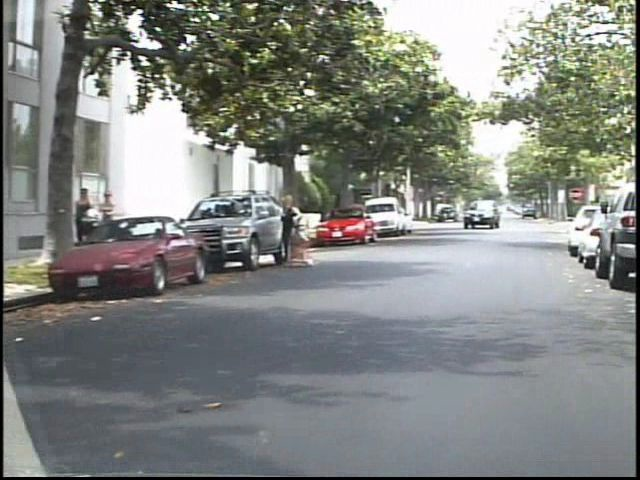person: (283, 192, 315, 274), (84, 185, 109, 254), (110, 186, 134, 250)
